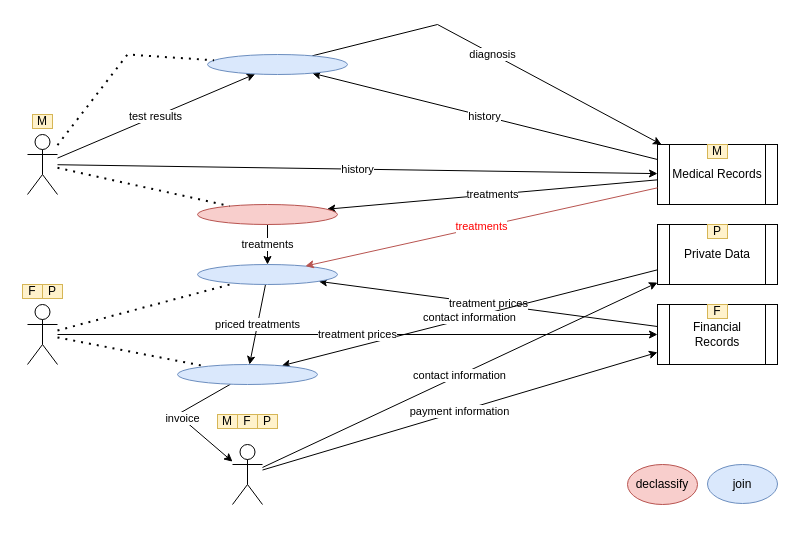
This 795x543 diagram has some shape labels left out. Each missing label, with the centre of its shape:
Clerk: the point at 42,334
create diagnosis: the point at 277,64
create invoice: the point at 247,374
create priced treatments: the point at 267,274
list treatments: the point at 267,214
Patient: the point at 247,474
Physician: the point at 42,164
